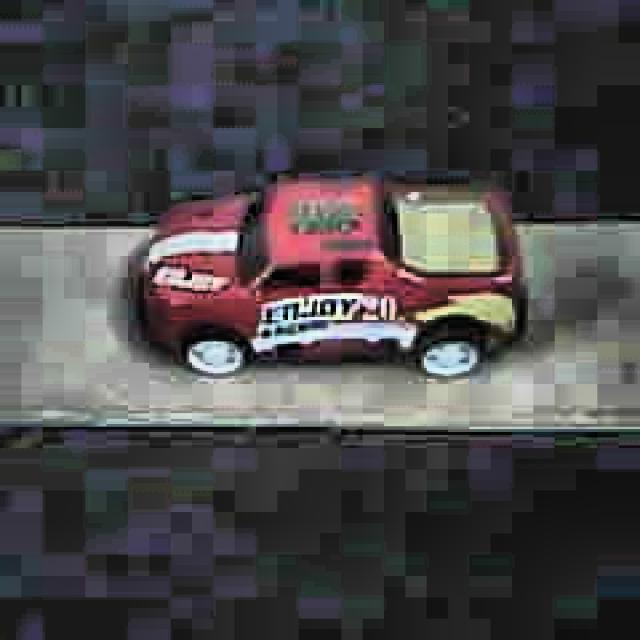car: (133, 173, 525, 381)
